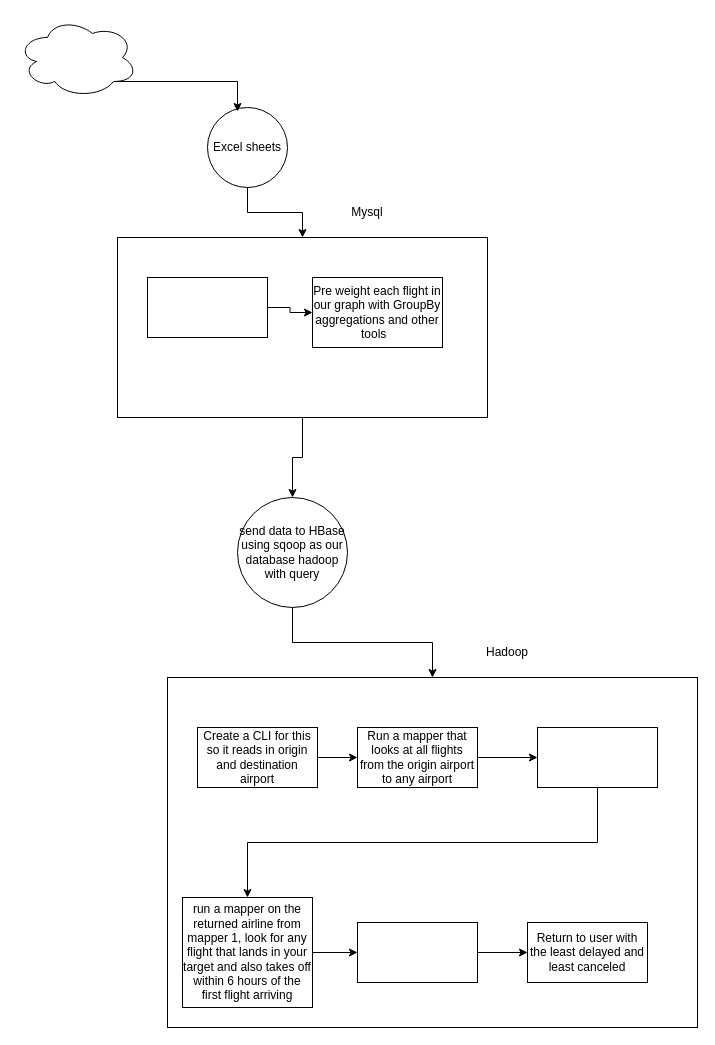
Some shapes in this 715 by 1045 pixel diagram are drawn without their labels. The centre of each missing label's shape, as x and y in pixels:
add a property called "Path" and add origin: point 597,757
Import raw data into mysql: point 207,307
Run a reducer that aggregates the path to the most reliable: point 417,952
Transportation department: point 77,57
